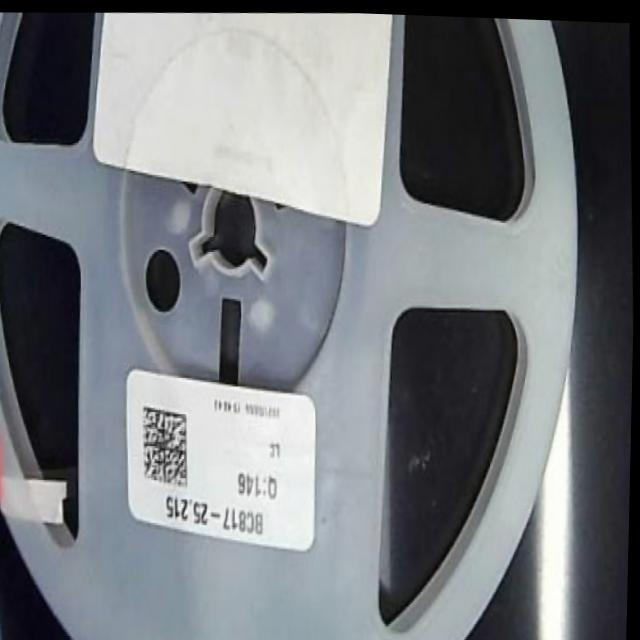datamatrix: (139, 399, 194, 491)
